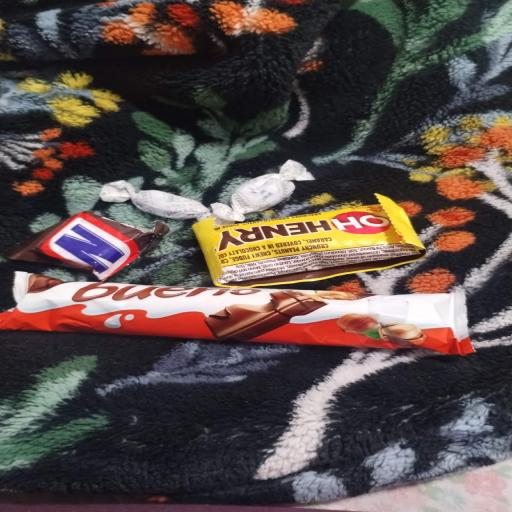chocolate: (0, 273, 473, 354), (193, 194, 425, 287), (8, 212, 168, 280), (211, 161, 313, 224), (101, 181, 210, 219)
